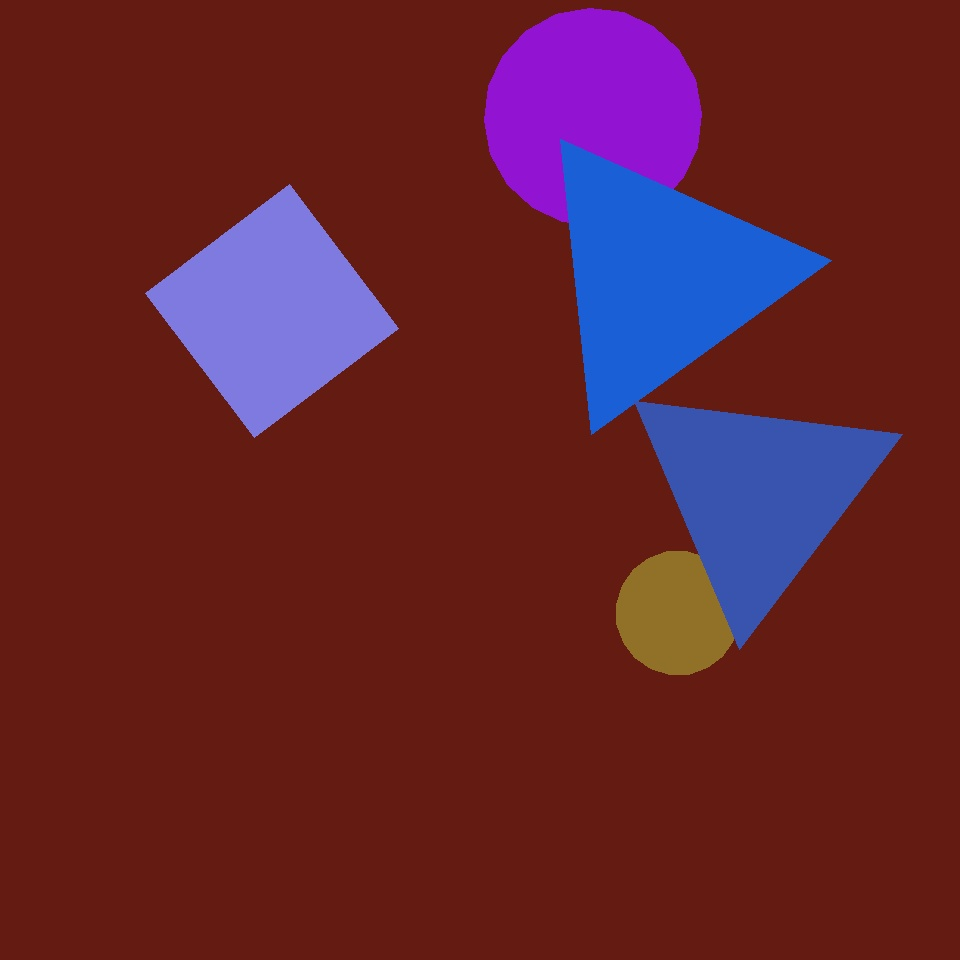circle: (526, 131, 796, 426), (558, 440, 813, 728), (625, 371, 893, 619)
square: (146, 184, 398, 438)
triangle: (320, 110, 594, 385), (609, 280, 866, 538), (484, 8, 702, 226), (616, 552, 740, 674)
